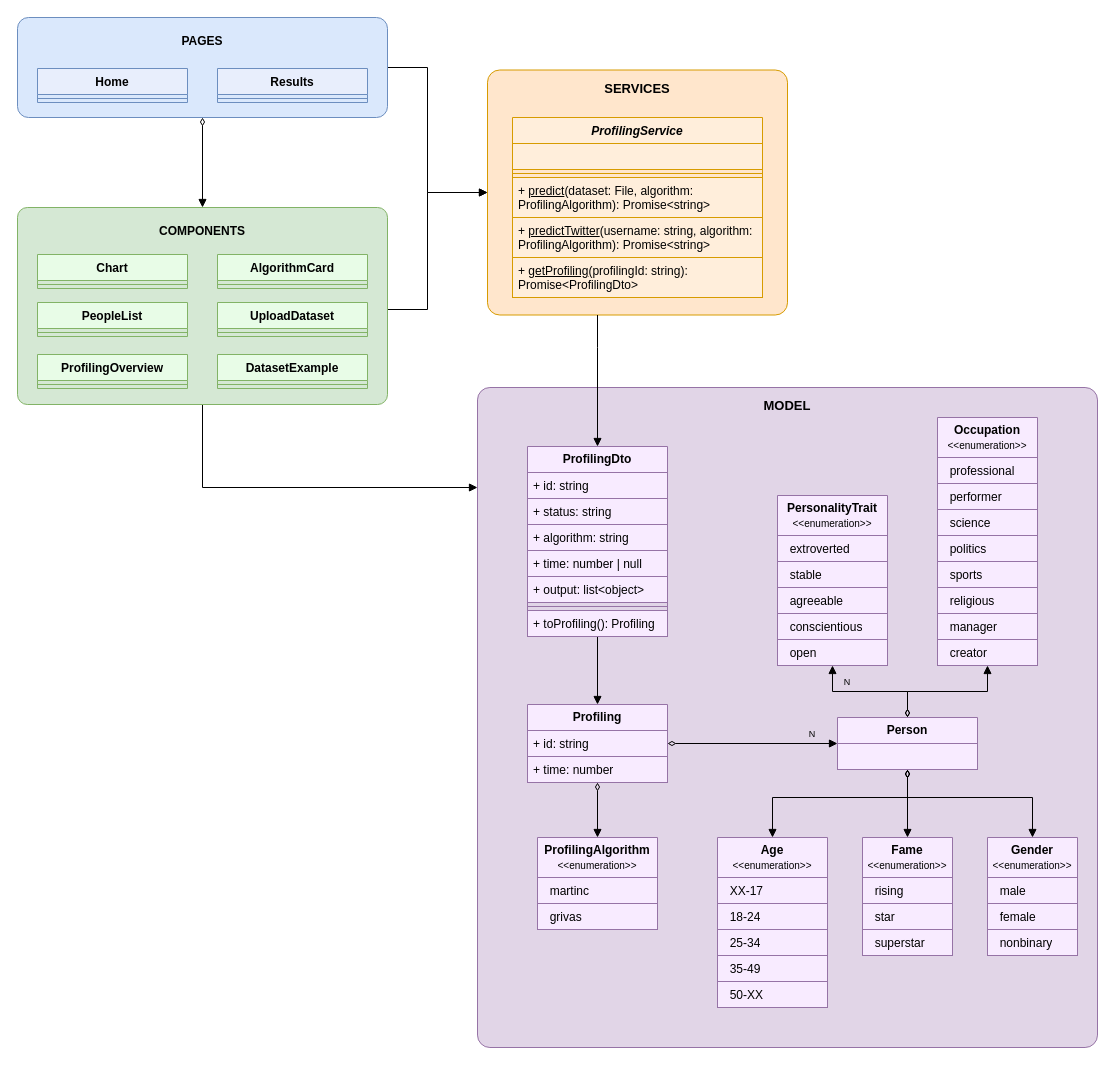
Image size: 1115x1065. Some labels were removed from this diagram. Here are the shapes that lost their labels. From the top down, the centre of each, then its label:
At point 637,156: "+ endpoint : string".
At point 907,756: "+ name: string".
